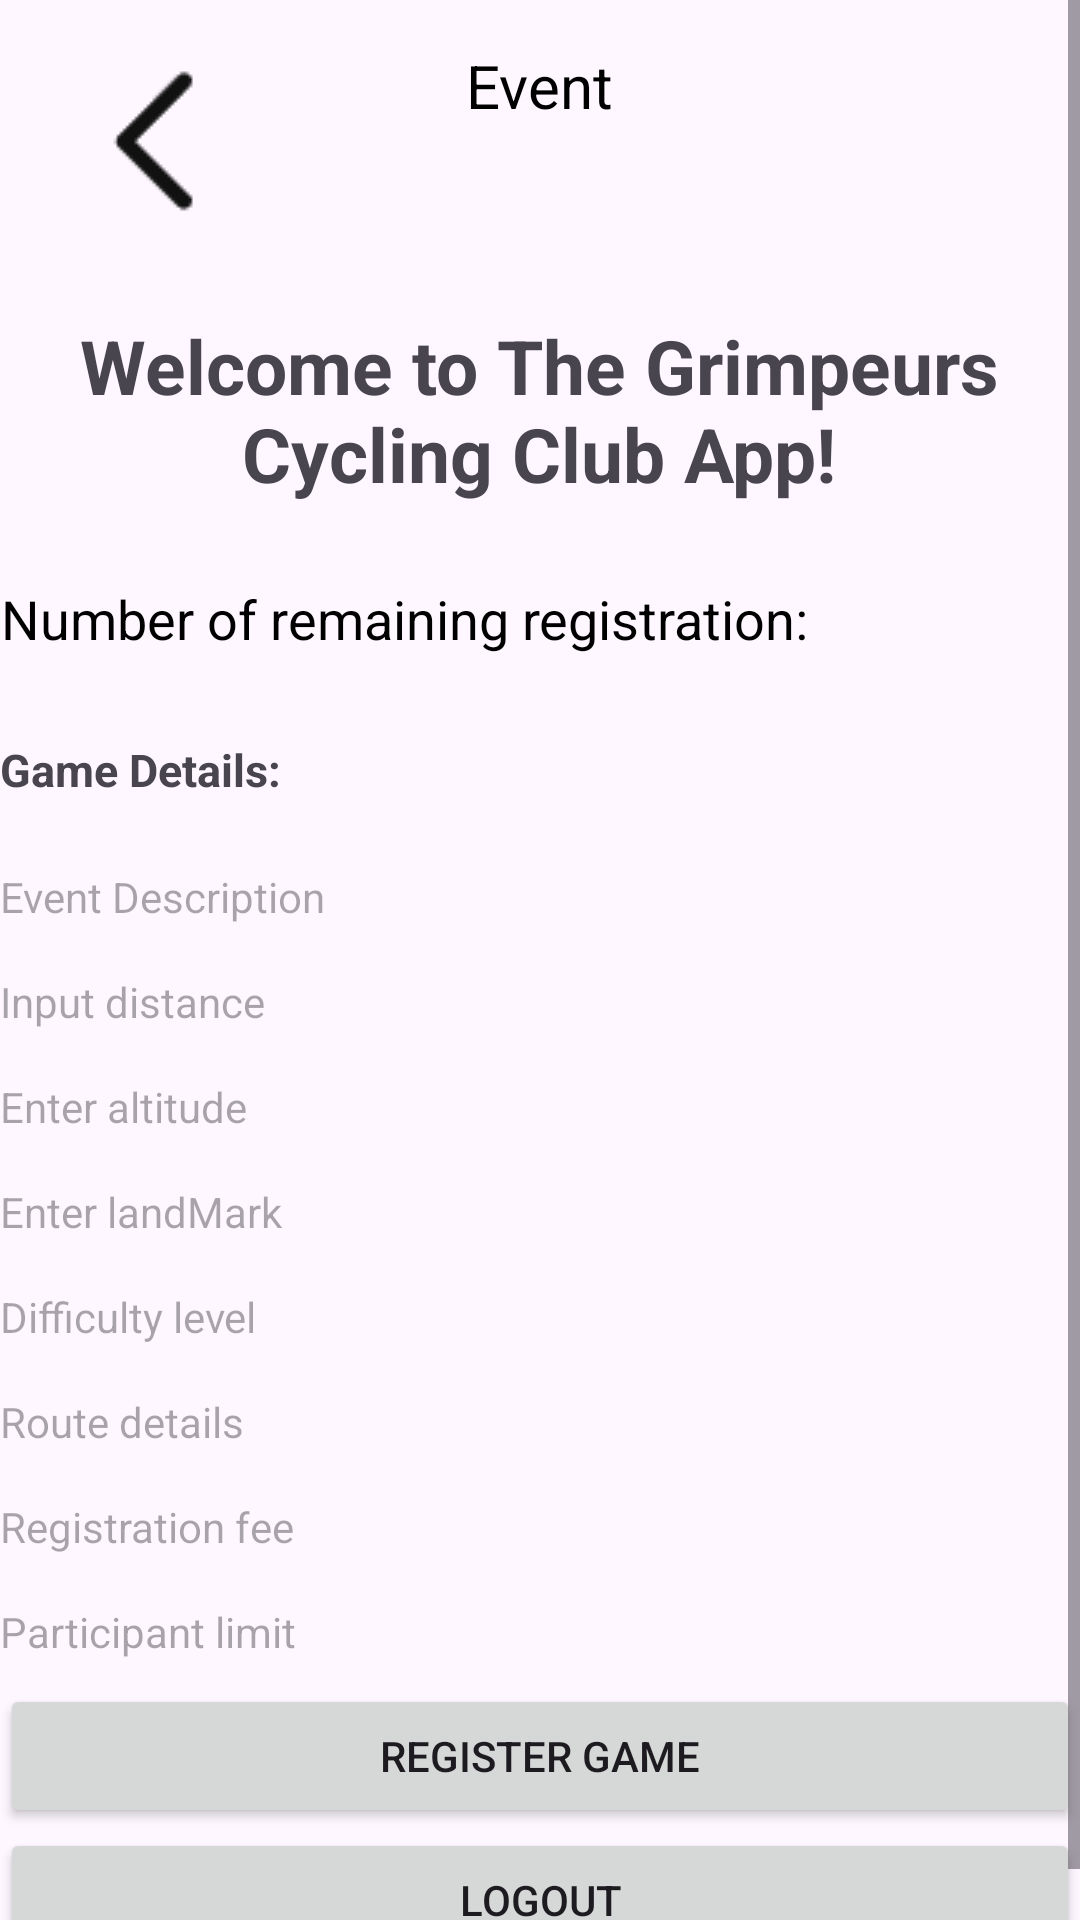

Where to tap for icons on this 1080w x 1920h app screen, as (x=x, y=y):
back: (x=153, y=141)
